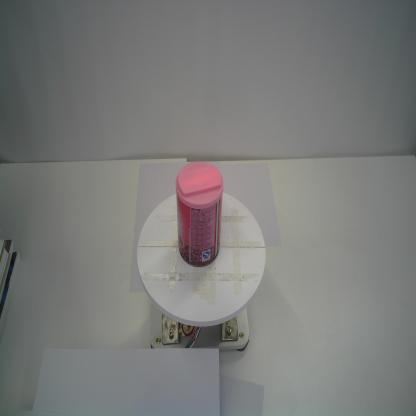Canned Food: (175, 160, 224, 267)
